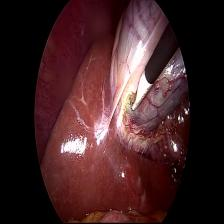Hook: (129, 67, 153, 114)
